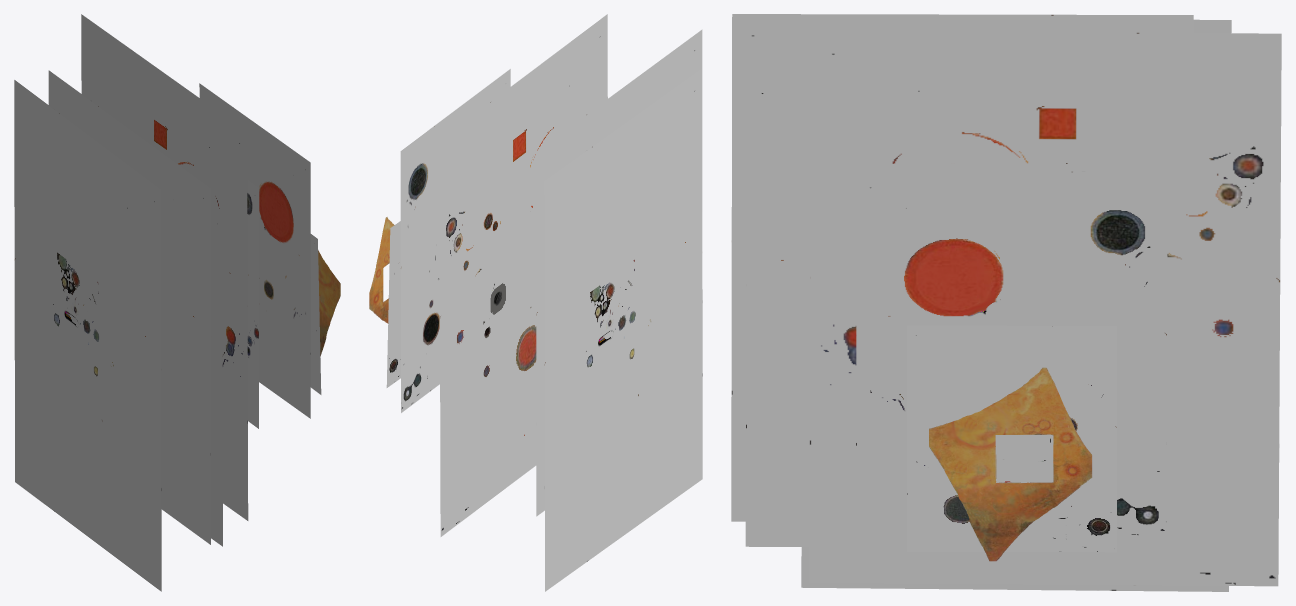
The model's file is kandinsky.dae.
The picture shows the model from 3 angles, left to right: view 1: azimuth 30°, elevation 25°; view 2: azimuth 150°, elevation 25°; view 3: azimuth 270°, elevation 25°; orthographic projection. The views are drawn at different scales.
Parts seen in each view (by area): view 1: Plane_008, Plane_007, Plane_005, Plane_002, Plane_006, Plane_003, Plane_001, Plane; view 2: Plane_008, Plane_005, Plane_002, Plane_007, Plane_001, Plane; view 3: Plane_005, Plane_002, Plane_001, Plane_006, Plane_007, Plane, Plane_008, Plane_003.
Boxes of the visible parts, <box> form: Plane_008: <box>14,80,161,591</box>; Plane_007: <box>48,70,210,544</box>; Plane_005: <box>81,14,248,520</box>; Plane_002: <box>199,83,310,418</box>; Plane_006: <box>211,205,222,546</box>; Plane_003: <box>247,179,259,428</box>; Plane_001: <box>310,234,321,394</box>; Plane: <box>318,250,340,356</box>; Plane_008: <box>544,68,702,591</box>; Plane_005: <box>439,14,607,536</box>; Plane_002: <box>400,69,510,412</box>; Plane_007: <box>536,29,702,516</box>; Plane_001: <box>386,221,400,387</box>; Plane: <box>369,217,394,323</box>; Plane_005: <box>809,30,1281,586</box>; Plane_002: <box>856,171,1167,536</box>; Plane_001: <box>907,325,1116,552</box>; Plane_006: <box>745,73,811,547</box>; Plane_007: <box>731,14,1193,521</box>; Plane: <box>929,367,1092,561</box>; Plane_008: <box>801,19,1231,591</box>; Plane_003: <box>868,162,1154,172</box>.
Size of the model in its own units: 11.41 by 17.09 by 21.27.
9 materials, 9 textured.
